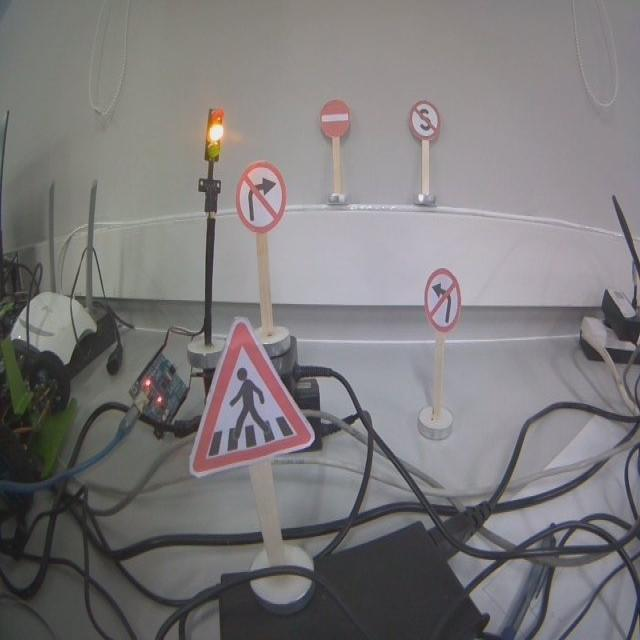Dilarang Belok Kanan: (235, 162, 287, 234)
Dilarang Belok Kiri: (424, 270, 461, 330)
Dilarang Masuk: (320, 100, 350, 137)
Lampu Kuning: (204, 106, 224, 162)
Rambu Berhenti: (409, 100, 440, 140)
Rambu Penyebrangan: (190, 318, 314, 474)
